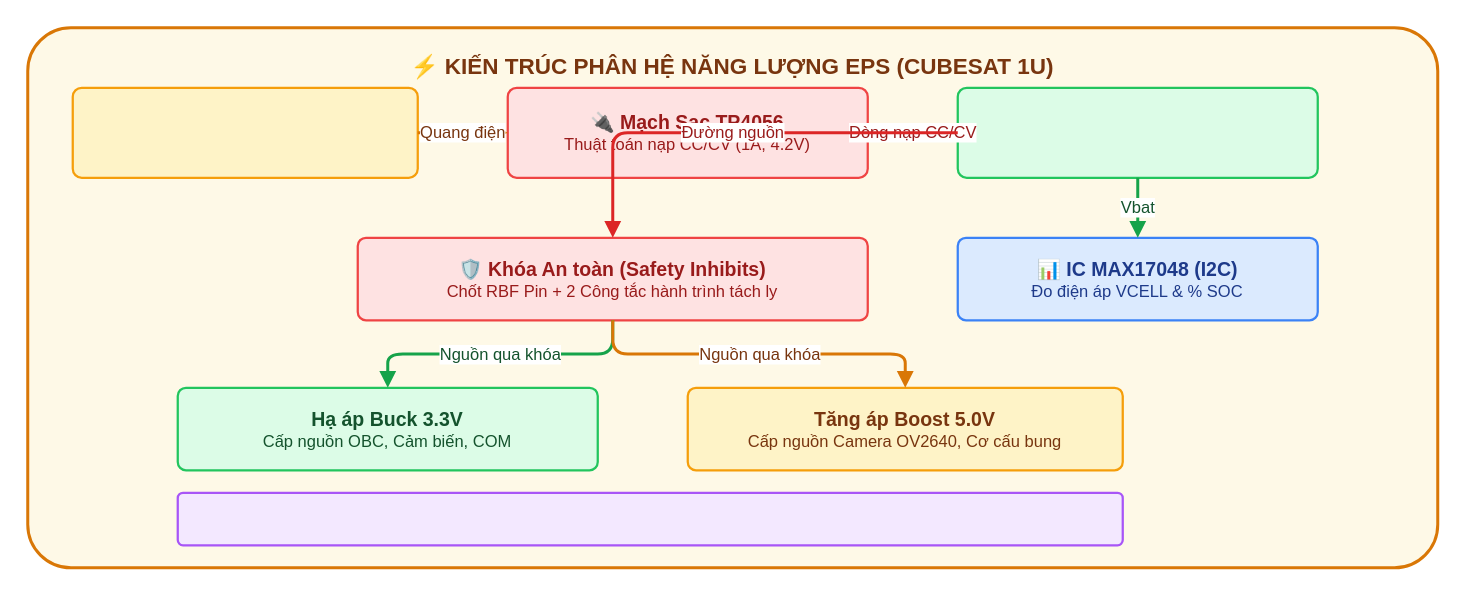
Image size: 1464x594. Some labels were removed from this diagram. The centre of each missing label's shape, as x and y in pixels:
"Khóa Cắt Nguồn P-MOSFET / 74HC4066: Ngắt tải rảnh tiết kiệm điện" goes at (x=649, y=518).
"☀️ Pin Mặt Trời Mảng tế bào Solar quang điện" goes at (x=244, y=132).
"🔋 Pin Li-Po (1S 3.7V) Dung lượng 1200 - 2000 mAh" goes at (x=1137, y=132).
